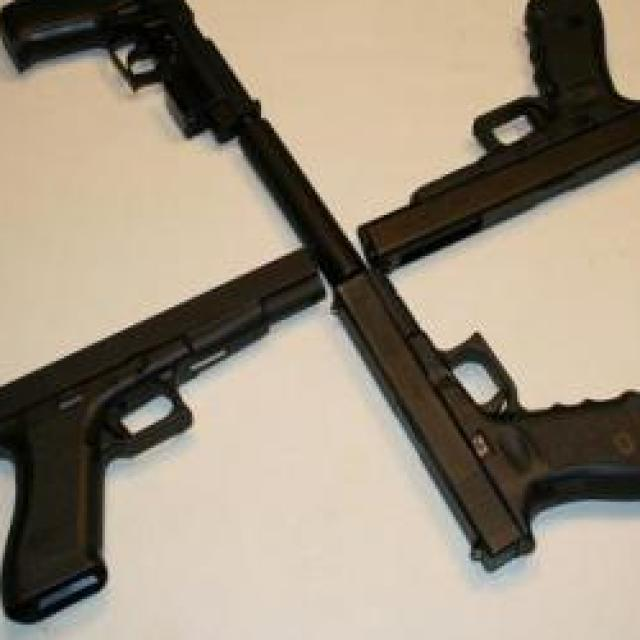pistol: (0, 246, 323, 624), (335, 266, 640, 571), (361, 0, 640, 271), (0, 0, 269, 156)
